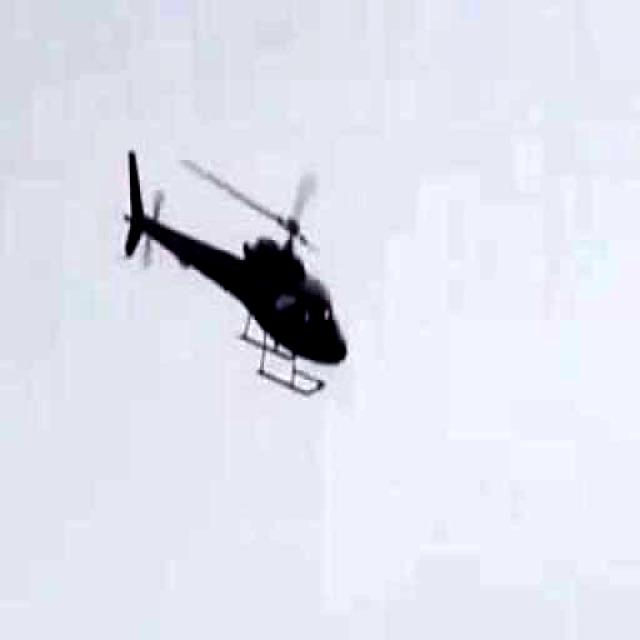drone: (112, 122, 355, 432)
